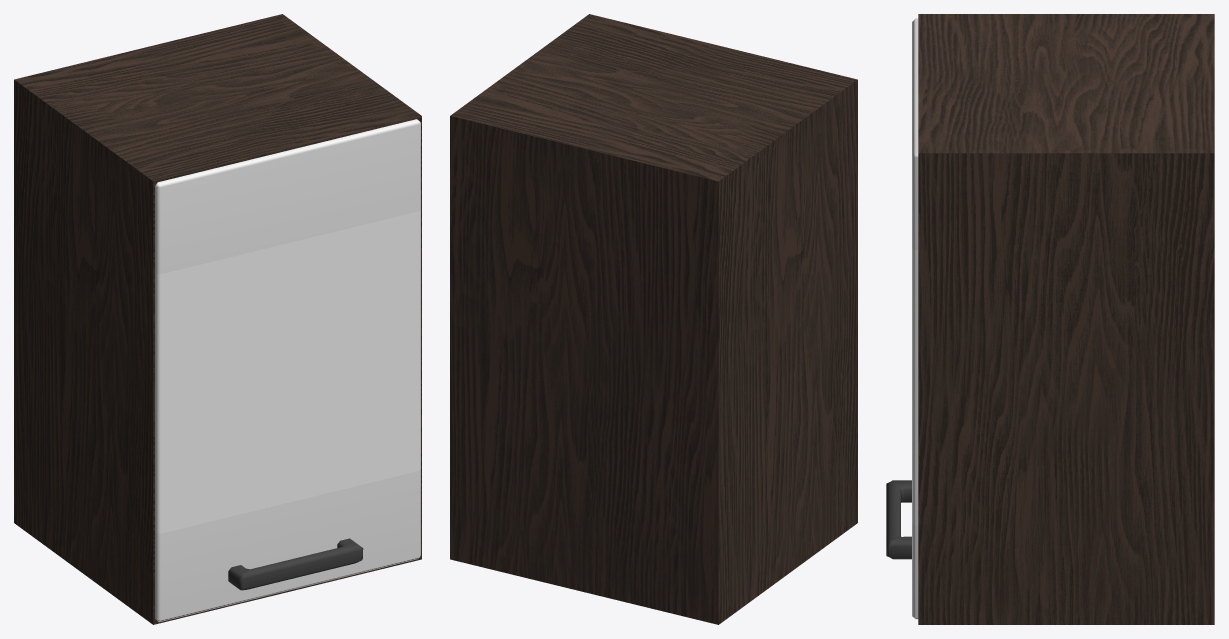
Rendered from kitchen_058.fbx.
3 views of the same model, side by side, from view 1: azimuth 30°, elevation 25°; view 2: azimuth 150°, elevation 25°; view 3: azimuth 270°, elevation 25° (orthographic). The views are drawn at different scales.
Parts seen in each view (by area): view 1: kitchen_058; view 2: kitchen_058; view 3: kitchen_058.
Boxes of the visible parts, <box> form: kitchen_058: <box>14,14,421,624</box>; kitchen_058: <box>450,14,857,624</box>; kitchen_058: <box>886,14,1214,624</box>.
Size of the model in its own units: 66.43 by 66.07 by 105.
